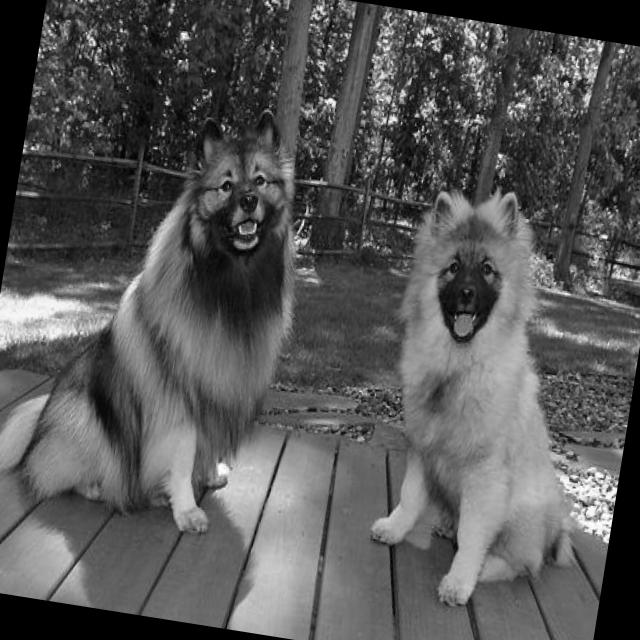sitting: (0, 67, 334, 549), (355, 175, 634, 628)
